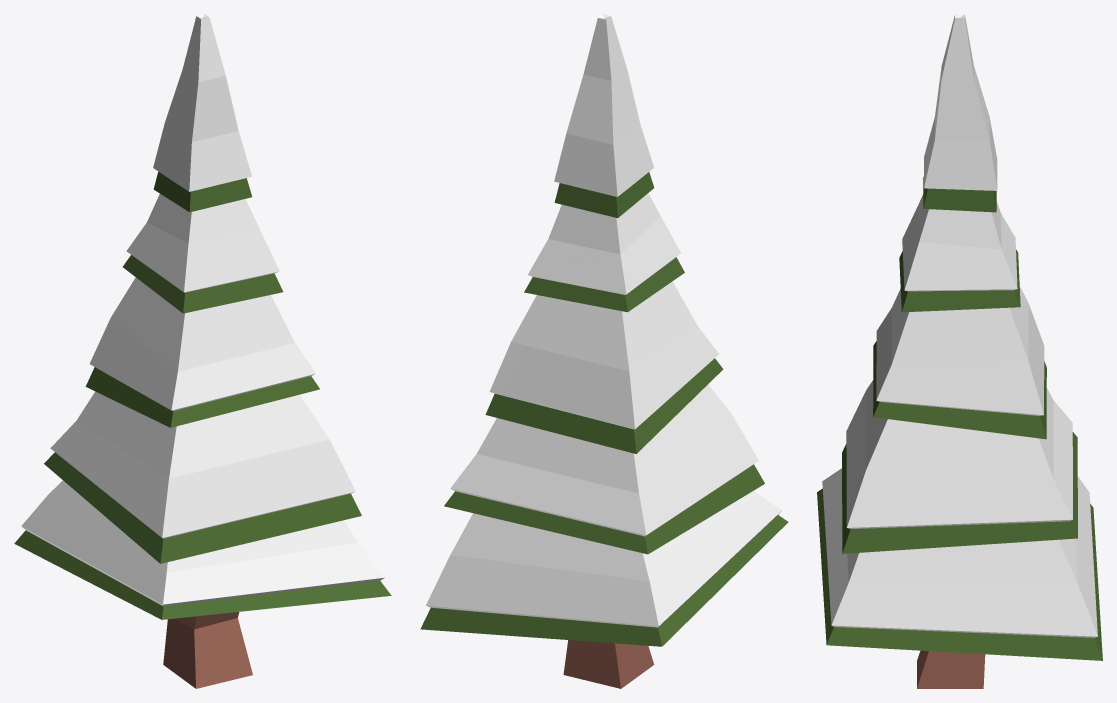
The model's file is tree1.glb.
3 views of the same model, side by side, from view 1: azimuth 30°, elevation 25°; view 2: azimuth 150°, elevation 25°; view 3: azimuth 270°, elevation 25° (orthographic).
Visible parts, largest first — view 1: Tree 1_0.001; view 2: Tree 1_0.001; view 3: Tree 1_0.001.
Part boxes in pixels (left/top/right/bottom): Tree 1_0.001: left=14, top=14, right=391, bottom=688; Tree 1_0.001: left=420, top=14, right=788, bottom=688; Tree 1_0.001: left=817, top=14, right=1102, bottom=688.
Size of what is drawn, in the model's own units: 3.79 by 9.59 by 3.77.
1 material, 1 textured.
